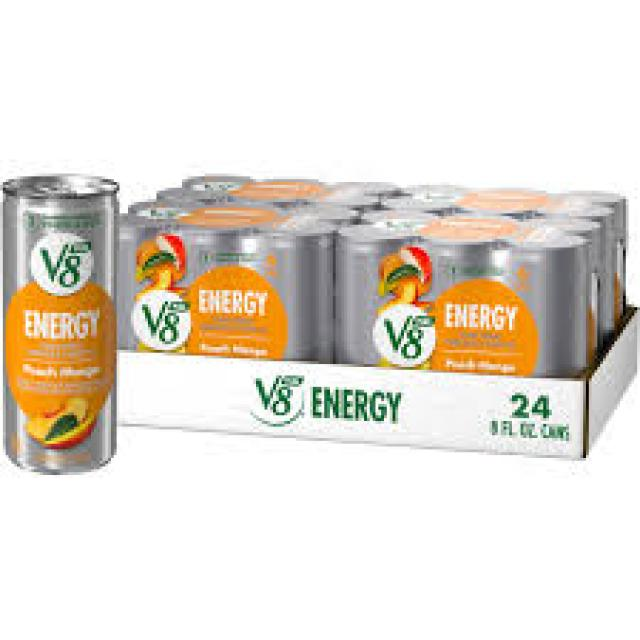Cans: (3, 173, 119, 478)
